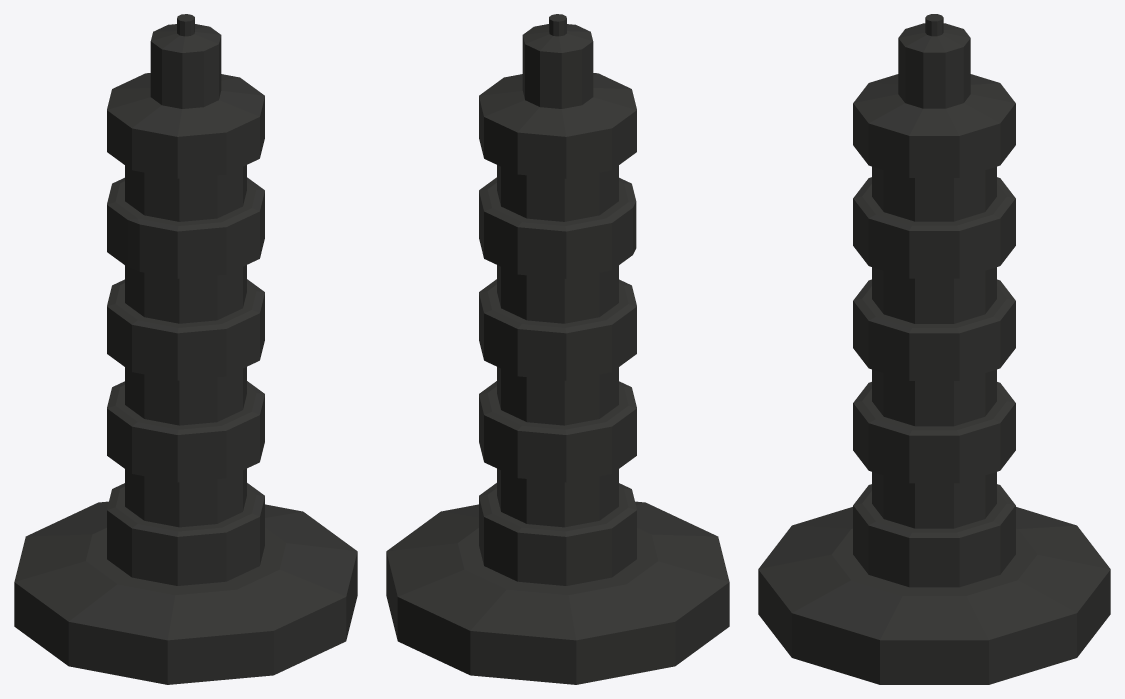
File: Peca02.fbx
The picture shows the model from 3 angles, left to right: view 1: azimuth 30°, elevation 25°; view 2: azimuth 150°, elevation 25°; view 3: azimuth 270°, elevation 25°; orthographic projection.
Visible parts, largest first — view 1: Cylinder; view 2: Cylinder; view 3: Cylinder.
Part boxes in pixels (x1,y1,x2,y2): Cylinder: (14,14,357,684); Cylinder: (386,14,729,684); Cylinder: (758,14,1110,684).
Size of the model in its own units: 190 by 382 by 200.
